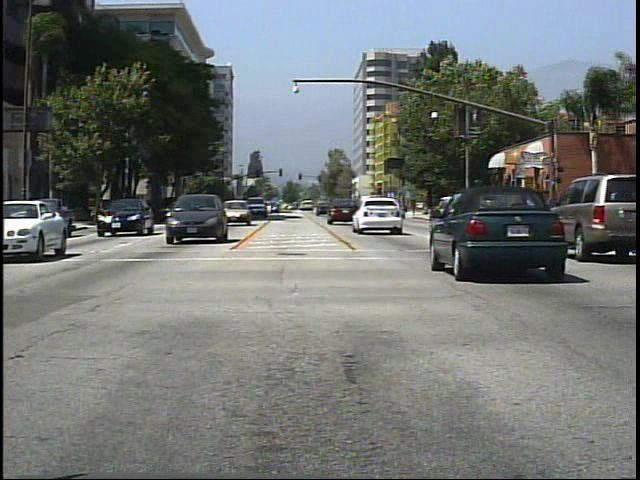person: (520, 195, 539, 229), (487, 189, 505, 224)
